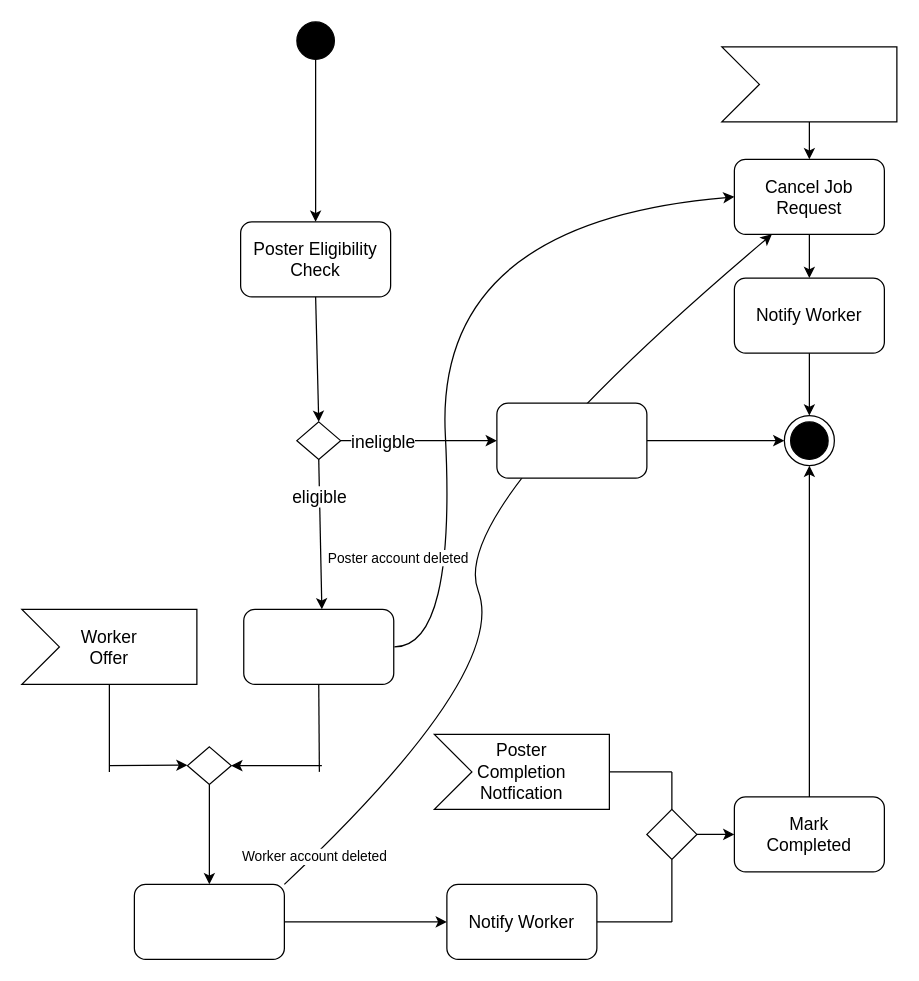
Image size: 919x981. Some labels were removed from this diagram. Here are the shapes that lost their labels. From the top down, the centre of each, then its label:
At (809,84): "Cancel Request".
At (571,440): "Show Error Message".
At (318,646): "Submit Job Request Information".
At (208,921): "Select Worker".
